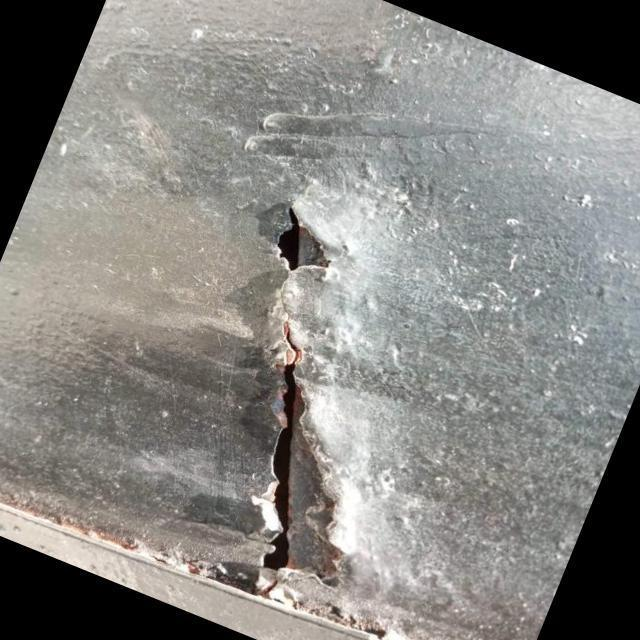defect: (244, 200, 346, 592)
